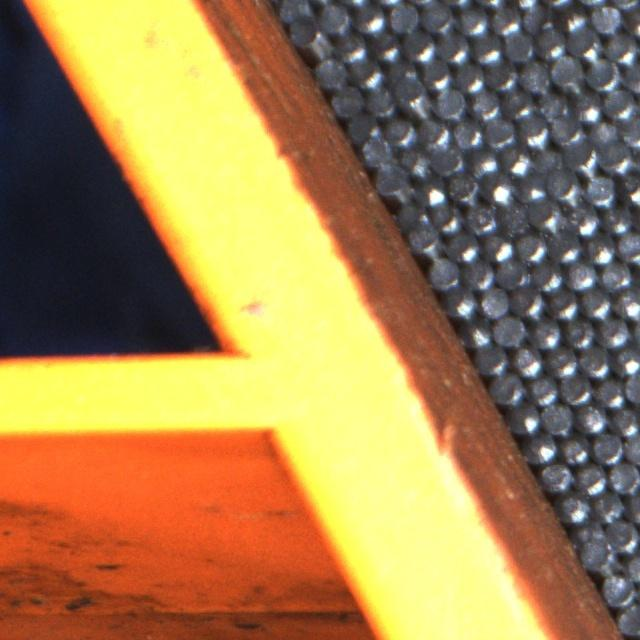tool: (552, 57, 586, 92), (602, 87, 638, 120), (604, 31, 638, 65), (491, 370, 525, 404), (587, 56, 621, 90), (591, 430, 624, 464), (563, 315, 596, 349), (578, 344, 612, 377), (502, 86, 536, 119), (428, 256, 461, 290), (488, 2, 521, 36), (435, 86, 468, 120), (545, 344, 578, 378), (600, 141, 634, 174), (400, 86, 434, 119), (421, 0, 455, 33), (596, 314, 629, 348), (545, 167, 579, 200), (570, 27, 604, 60), (601, 572, 635, 605), (474, 341, 508, 374), (551, 114, 586, 146), (579, 285, 612, 318), (529, 316, 562, 349), (403, 29, 436, 62), (559, 372, 592, 405), (462, 257, 495, 290), (436, 29, 469, 62), (485, 56, 518, 89), (573, 461, 606, 494), (318, 1, 351, 34), (448, 170, 481, 203), (559, 431, 591, 465), (492, 314, 526, 346), (514, 230, 548, 262), (590, 488, 624, 520), (464, 201, 498, 233), (445, 228, 479, 260), (585, 172, 617, 206), (518, 1, 552, 33), (456, 4, 488, 37), (608, 460, 640, 493), (353, 2, 386, 34), (511, 344, 544, 376), (530, 259, 562, 292), (608, 519, 640, 552), (589, 1, 622, 33), (539, 460, 572, 492), (481, 230, 514, 262), (541, 400, 573, 433), (584, 232, 616, 265), (386, 0, 419, 32), (349, 57, 382, 89), (558, 489, 590, 522), (469, 88, 502, 120), (499, 144, 532, 176), (567, 140, 600, 172), (546, 286, 578, 319), (419, 56, 452, 88), (598, 259, 631, 291), (524, 431, 557, 463), (370, 30, 403, 62), (532, 198, 564, 231), (483, 174, 516, 206), (502, 30, 534, 62), (478, 285, 510, 317), (453, 60, 485, 92), (564, 258, 596, 290), (484, 116, 516, 148), (526, 373, 558, 405), (518, 115, 550, 147), (451, 117, 483, 149), (587, 114, 619, 146), (510, 284, 542, 316), (536, 88, 568, 120), (433, 143, 465, 175), (518, 60, 550, 92), (467, 146, 499, 178), (470, 30, 502, 62), (418, 118, 450, 150), (535, 27, 567, 59), (384, 116, 416, 148), (496, 256, 528, 288), (570, 92, 602, 124), (509, 400, 541, 432), (570, 203, 602, 235), (430, 200, 462, 232), (578, 536, 610, 568), (548, 230, 580, 262), (444, 284, 476, 316), (373, 159, 405, 191), (576, 400, 607, 433), (531, 145, 564, 176), (609, 404, 640, 437), (592, 376, 624, 407), (364, 85, 396, 116), (335, 31, 367, 62), (383, 56, 415, 87), (400, 145, 432, 176), (514, 173, 545, 205), (601, 203, 633, 234), (560, 3, 590, 36), (410, 222, 441, 253), (315, 56, 347, 86), (360, 134, 392, 164), (499, 202, 529, 234), (417, 174, 449, 204), (346, 112, 378, 142), (332, 85, 362, 116), (306, 30, 336, 60), (464, 318, 494, 348), (286, 16, 316, 46), (577, 517, 608, 546), (612, 344, 640, 376), (613, 285, 640, 318), (616, 229, 640, 262), (617, 600, 640, 634), (276, 0, 310, 23), (618, 172, 640, 204), (620, 115, 640, 148), (622, 59, 640, 92), (622, 550, 640, 582), (624, 5, 640, 38), (625, 432, 640, 465), (625, 372, 640, 404), (626, 490, 640, 523)
